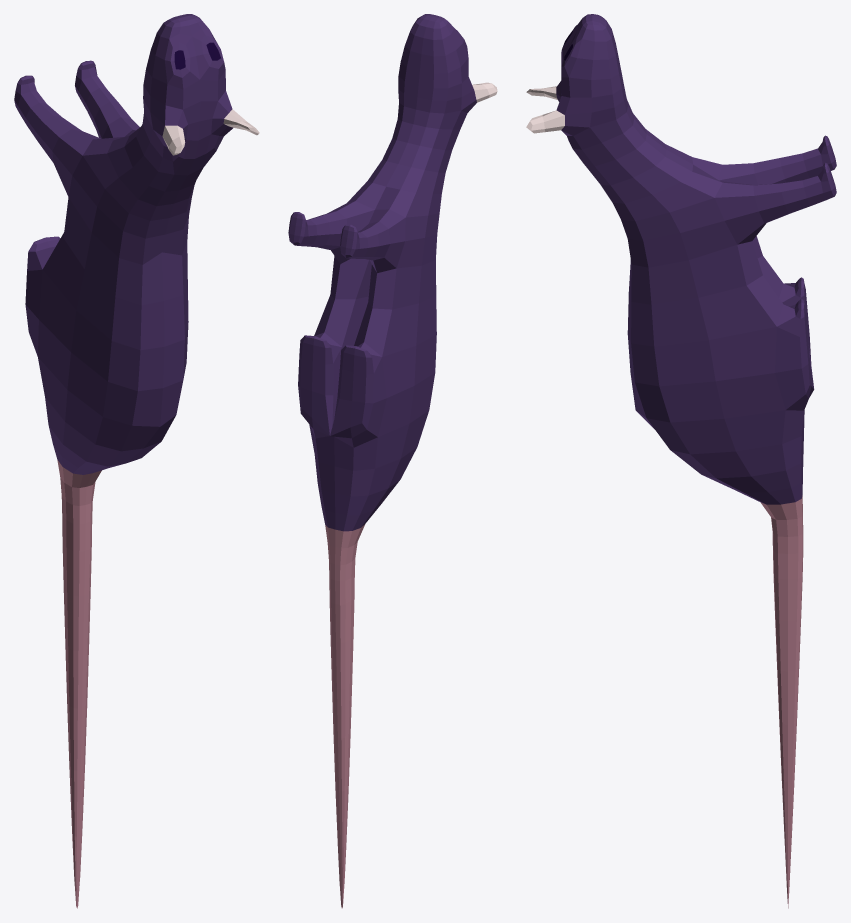
File: spinning_whistle_RAT.glb
3 renders of one model, left to right at view 1: azimuth 30°, elevation 25°; view 2: azimuth 150°, elevation 25°; view 3: azimuth 270°, elevation 25°, orthographic. The views are drawn at different scales.
Parts seen in each view (by area): view 1: Rat; view 2: Rat; view 3: Rat.
Boxes of the visible parts, x1=… form: Rat: x1=14, y1=14, x2=259, y2=908; Rat: x1=288, y1=14, x2=497, y2=908; Rat: x1=526, y1=14, x2=836, y2=908.
Size of the model in its own units: 0.6306 by 6.41 by 2.03.
Materials: 1 (1 with a texture image).
